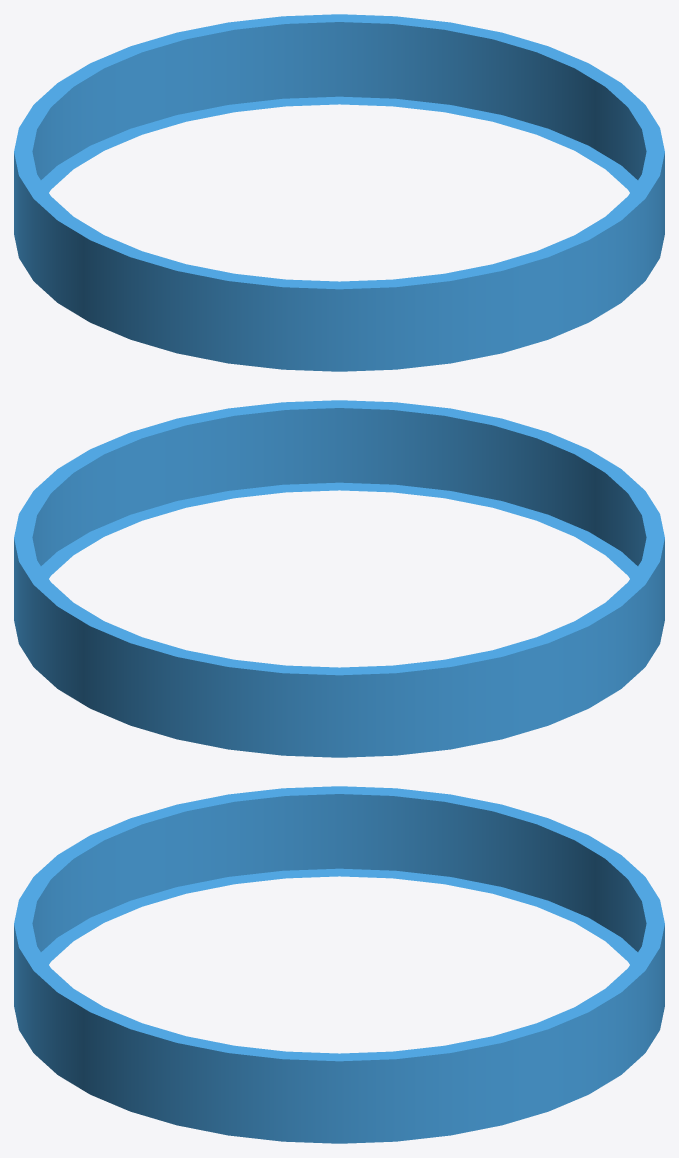
Rendered from Cake_Med_itemsSide_Ribbon-A.FBX.
3 views of the same model, one above another, from view 1: azimuth 30°, elevation 25°; view 2: azimuth 150°, elevation 25°; view 3: azimuth 270°, elevation 25° (orthographic).
Visible parts, largest first — view 1: Cake_Med_itemsSide_Ribbon-A; view 2: Cake_Med_itemsSide_Ribbon-A; view 3: Cake_Med_itemsSide_Ribbon-A.
Boxes of the visible parts, x1,y1,x2,y2 form: Cake_Med_itemsSide_Ribbon-A: (14, 14, 664, 371); Cake_Med_itemsSide_Ribbon-A: (14, 400, 664, 757); Cake_Med_itemsSide_Ribbon-A: (14, 786, 664, 1143).
Bounding box in the file's own units: 7765 × 1086 × 7765.
